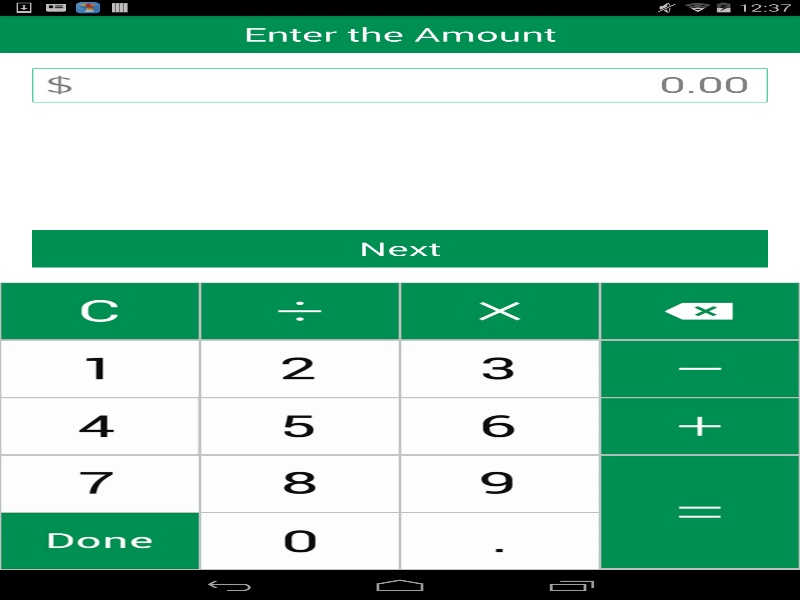Button: (601, 455, 798, 568), (1, 283, 198, 339), (201, 283, 398, 339), (401, 283, 598, 339), (601, 283, 798, 339), (1, 340, 198, 396), (201, 340, 398, 396), (401, 340, 598, 396), (601, 340, 798, 396), (1, 398, 198, 454), (201, 398, 398, 454), (401, 398, 598, 454), (601, 398, 798, 454), (1, 455, 198, 511), (201, 455, 398, 511), (401, 455, 598, 511), (1, 513, 198, 569), (201, 513, 398, 569), (401, 513, 598, 569)
Input: (32, 68, 768, 102)
